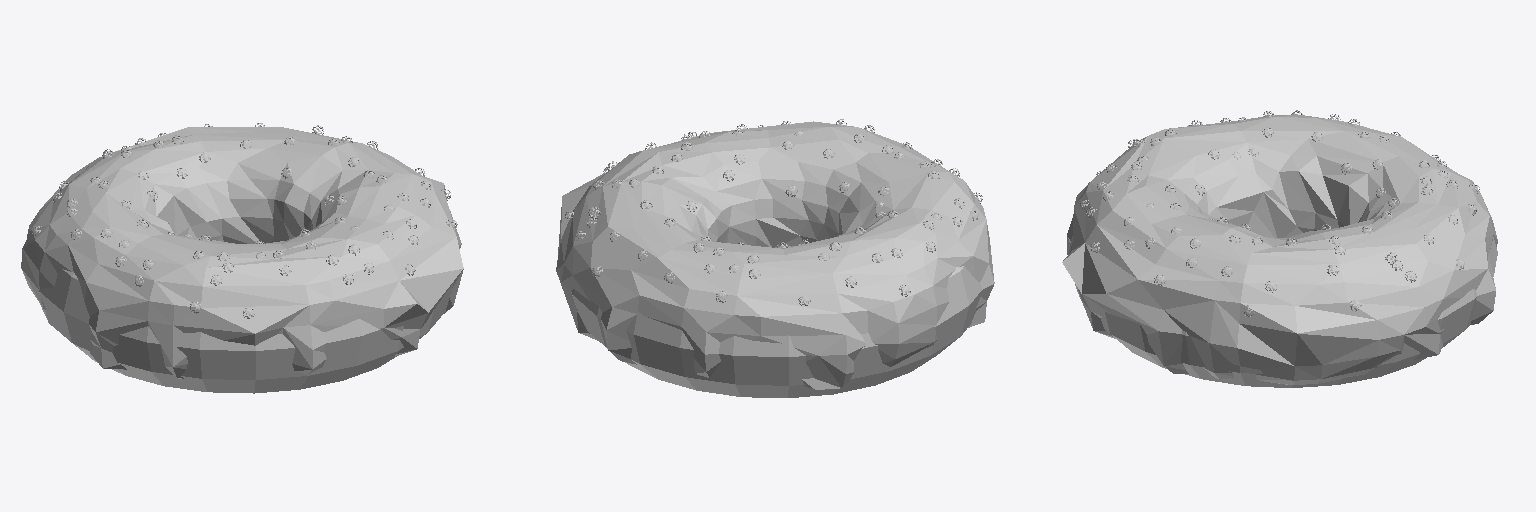
File: Donut1 obj.obj
The picture shows the model from 3 angles: view 1: azimuth 30°, elevation 25°; view 2: azimuth 150°, elevation 25°; view 3: azimuth 270°, elevation 25°; orthographic projection.
Parts seen in each view (by area): view 1: _1, default; view 2: _1, default; view 3: _1, default.
Boxes of the visible parts, x1,y1,x2,y2 form: _1: [21, 127, 463, 378]; default: [39, 269, 453, 393]; _1: [556, 121, 994, 389]; default: [571, 239, 981, 397]; _1: [1062, 114, 1497, 384]; default: [1068, 236, 1497, 387].
Bounding box in the file's own units: 1334 × 467 × 1279.